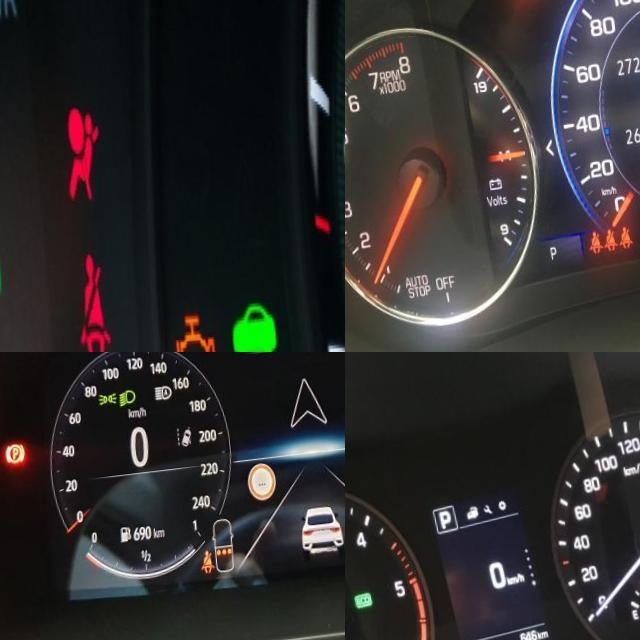Low beam: (111, 390, 130, 413)
SideLamp: (91, 394, 111, 410)
